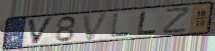8: (53, 15, 78, 44)
L: (136, 10, 159, 36), (109, 13, 131, 39)
V: (81, 12, 111, 42), (26, 16, 55, 46)
Z: (161, 6, 192, 35)
